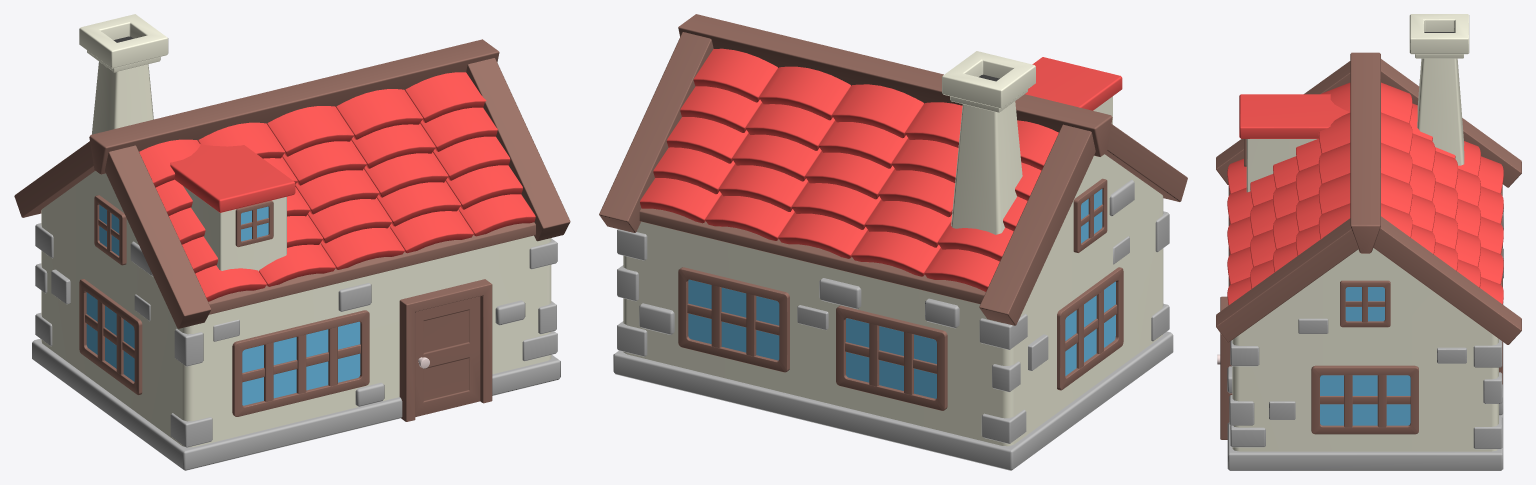
File: Town_18_House_1.glb
3 views of the same model, side by side, from view 1: azimuth 30°, elevation 25°; view 2: azimuth 150°, elevation 25°; view 3: azimuth 270°, elevation 25° (orthographic). The views are drawn at different scales.
Visible parts, largest first — view 1: Town_18_House_1; view 2: Town_18_House_1; view 3: Town_18_House_1.
Part boxes in pixels (<box>): Town_18_House_1: <box>14,14,570,470</box>; Town_18_House_1: <box>599,14,1187,470</box>; Town_18_House_1: <box>1216,14,1521,470</box>.
Size of the model in its own units: 8.48 by 6.98 by 6.32.
Materials: 1 (1 with a texture image).
